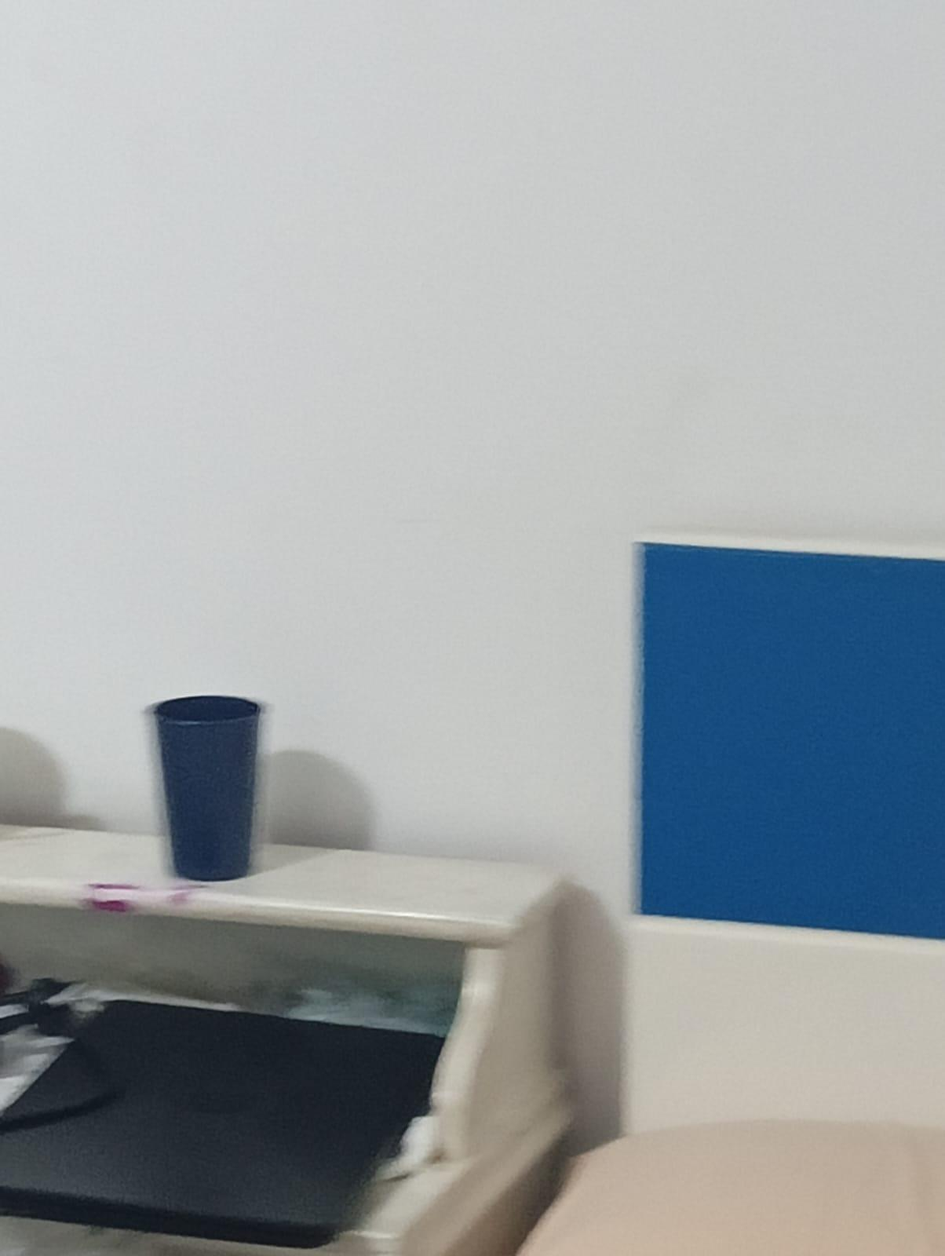cup: (151, 696, 261, 881)
